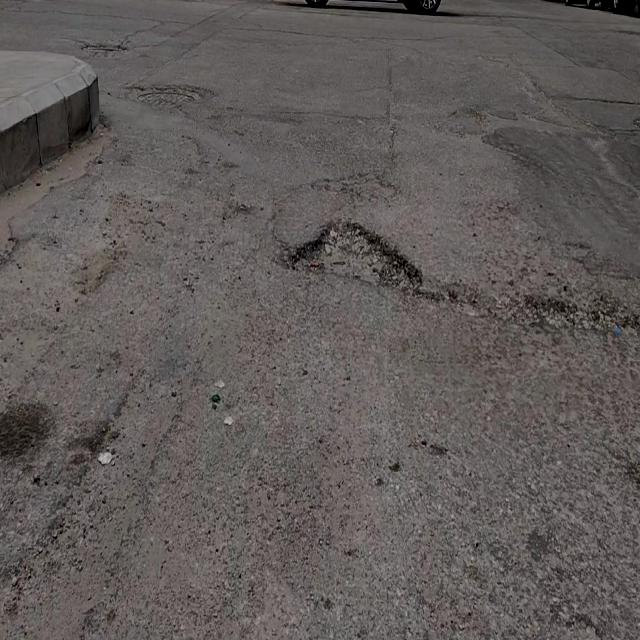Potholes: (291, 215, 419, 292)
